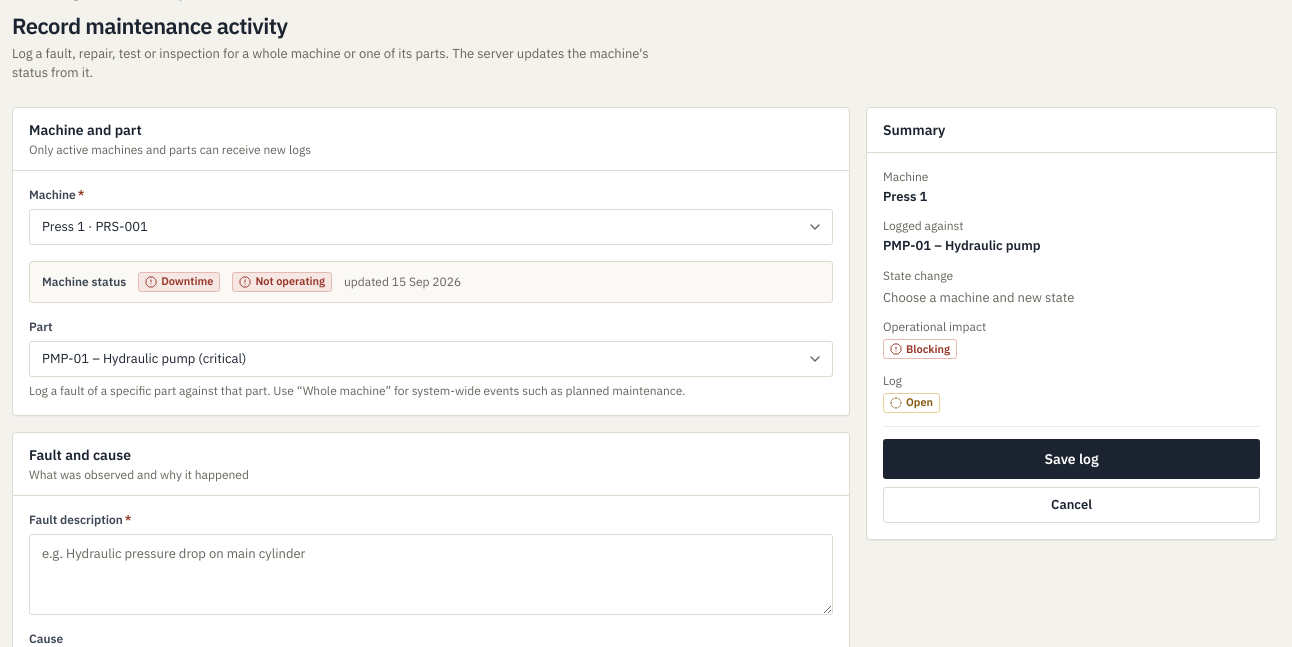
it: Record maintenance activity › part events › reloads the parts when the part changed meanwhile
Expected: the text "Machine status" is shown, left=42, top=274, right=126, bottom=290
Type "Pump seized" into the text box labelled "Fault description" at (431, 574), box left=29, top=534, right=833, bottom=615
(page scrolled)
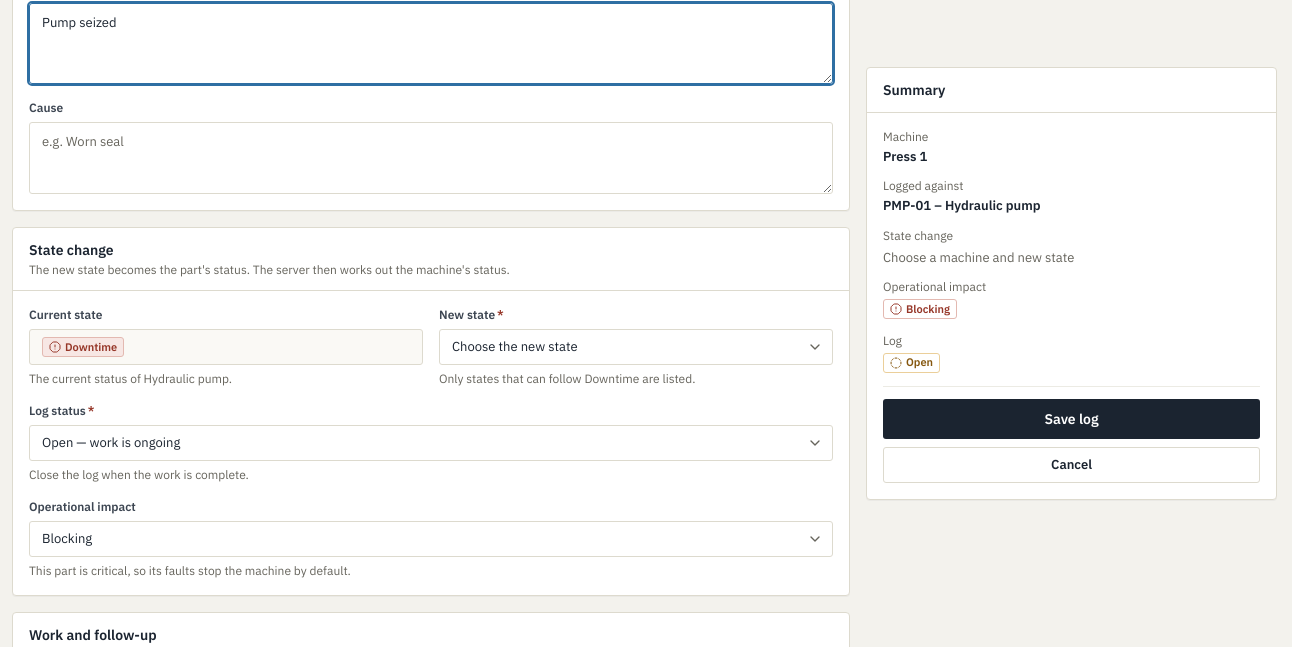
Select "Under maintenance" in the dropdown labelled "New state" at (636, 347), box left=439, top=329, right=833, bottom=365
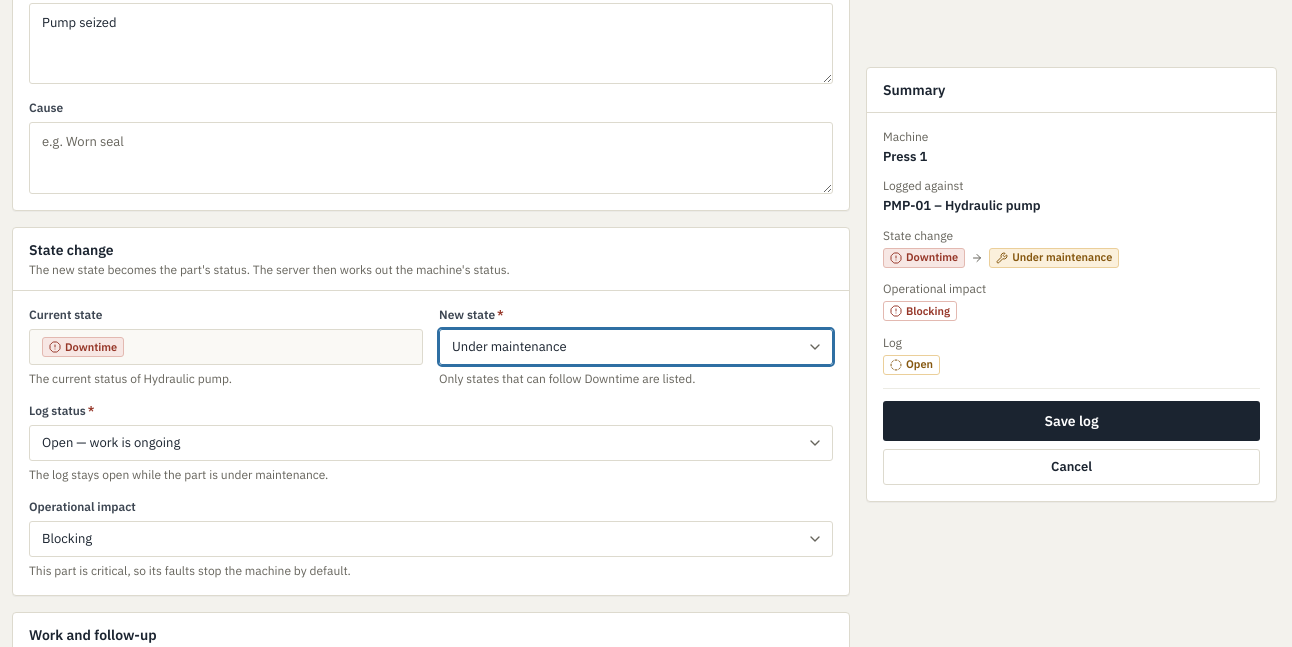
Click the button "Save log" at (1072, 420), box left=883, top=400, right=1260, bottom=440
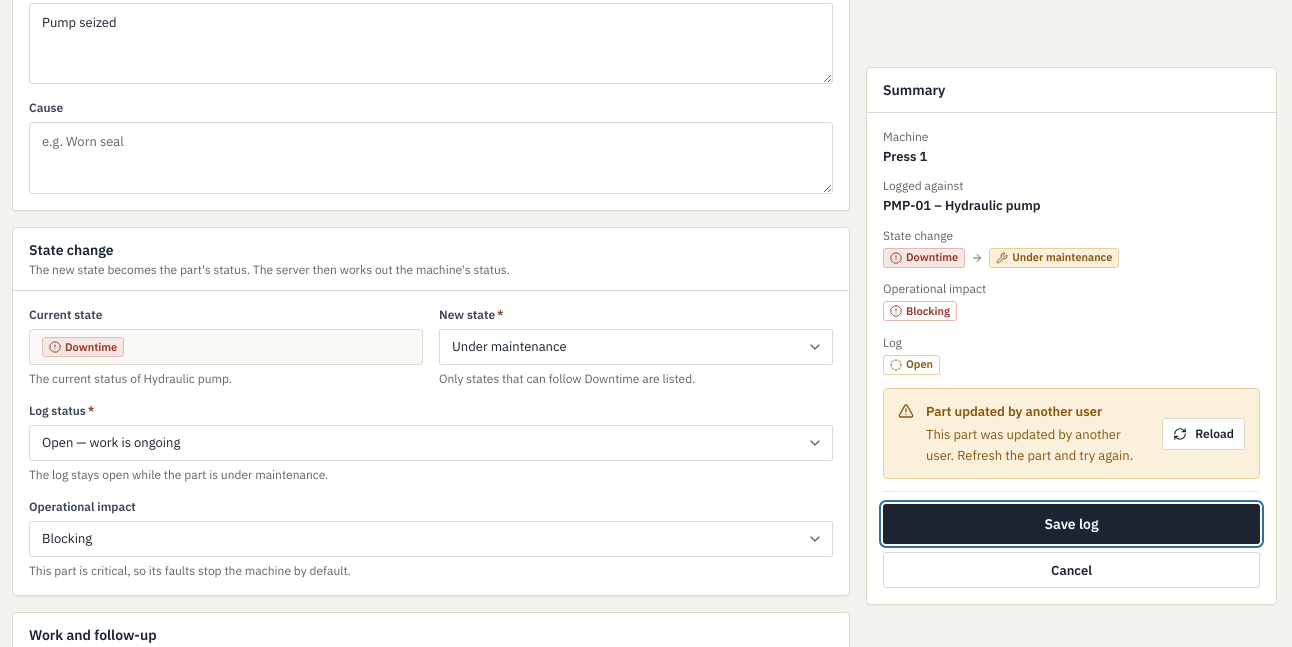
Now the text "Part updated by another user" is shown, box left=926, top=402, right=1102, bottom=420
